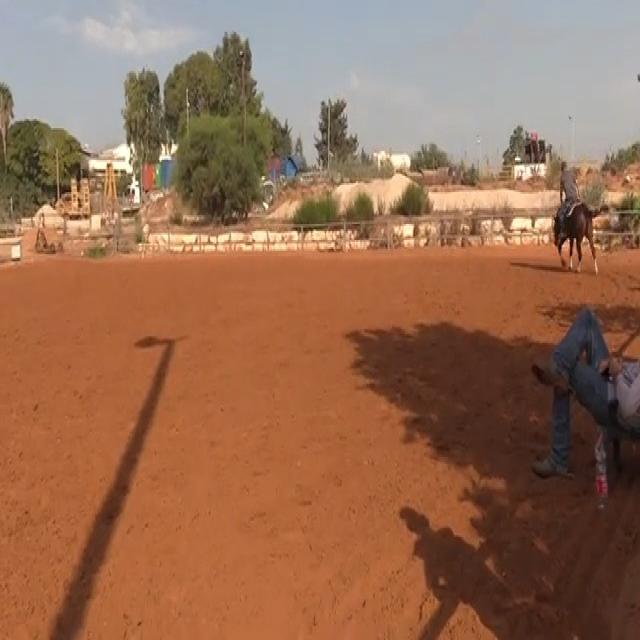horse: (550, 198, 601, 276)
